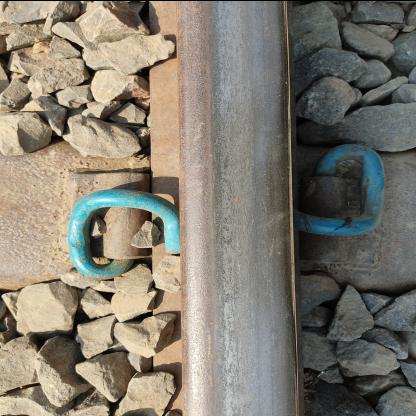Non Defective 1: (53, 148, 203, 289), (265, 112, 396, 272)
